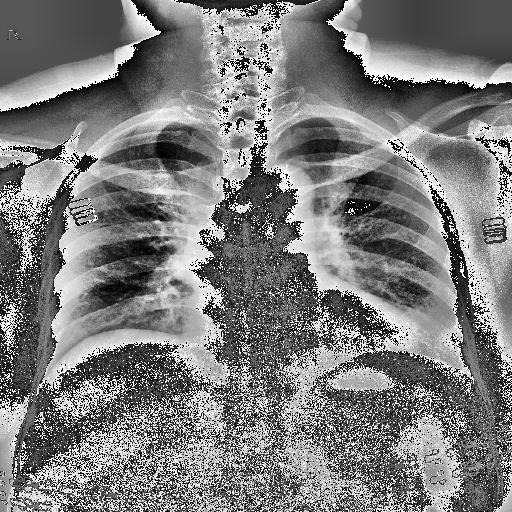0- Aortic enlargement: (248, 164, 315, 218), (260, 166, 316, 220), (258, 163, 314, 205)
3- Cardiomegaly: (183, 308, 426, 374), (178, 294, 421, 360), (181, 299, 426, 358)
